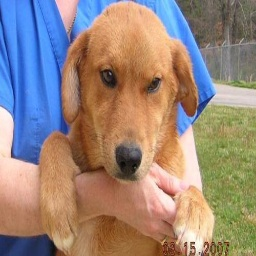dog: (40, 0, 213, 255)
